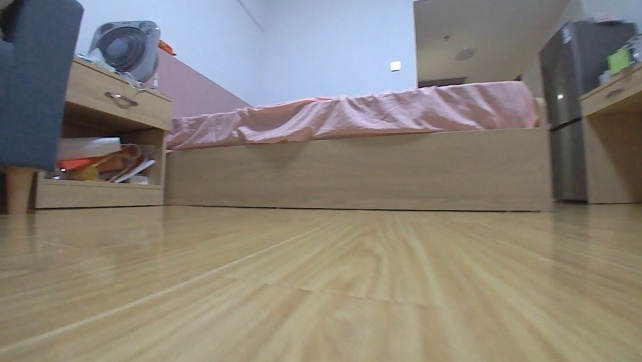bed: (139, 38, 560, 215)
cabinet: (28, 50, 177, 212)
refrigerator: (538, 16, 638, 203)
